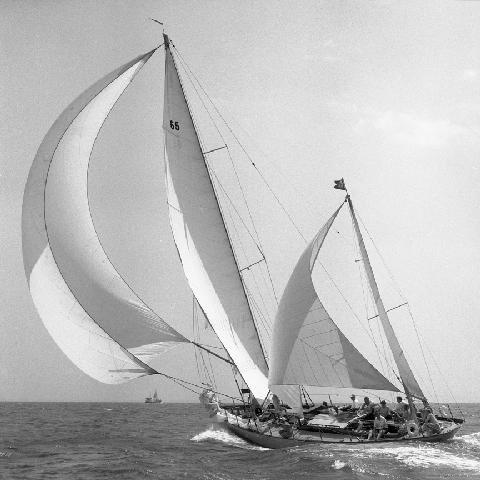Ship: (23, 32, 463, 447)
